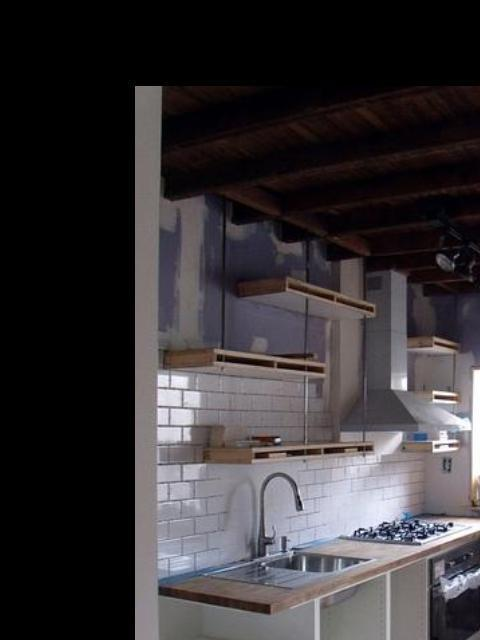Lavaplatos: (208, 467, 378, 596)
